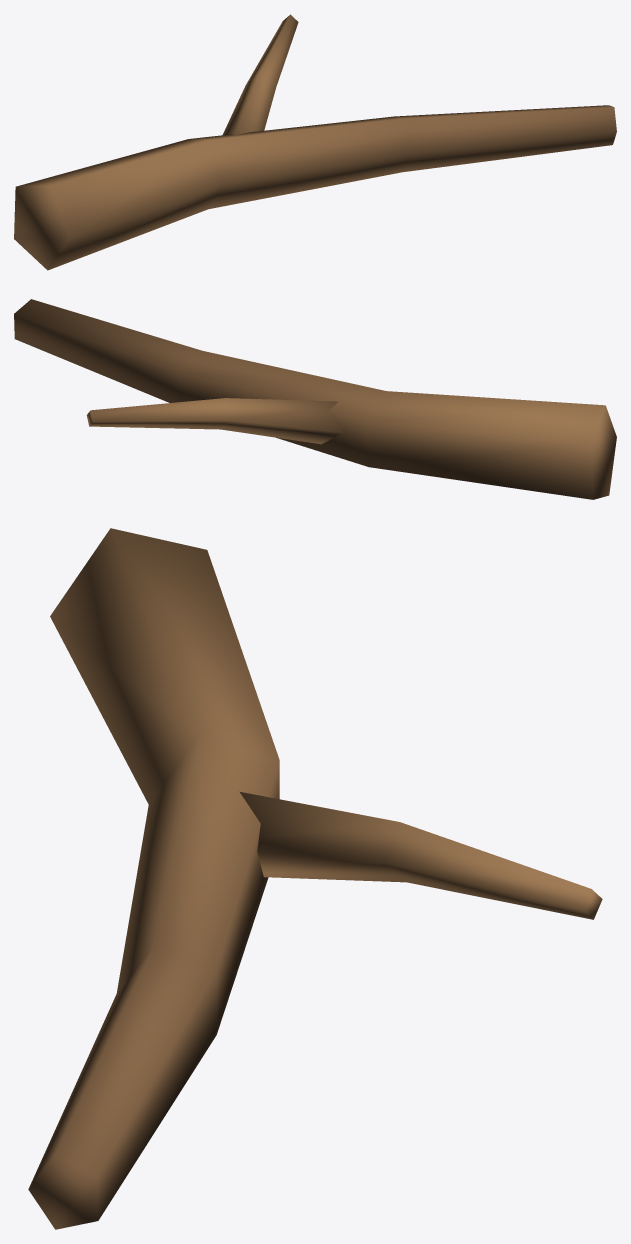
Rendered from node-branch-low.glb.
The picture shows the model from 3 angles, top to bottom: view 1: azimuth 30°, elevation 25°; view 2: azimuth 150°, elevation 25°; view 3: azimuth 270°, elevation 25°; orthographic projection. The views are drawn at different scales.
Parts seen in each view (by area): view 1: 0_branch; view 2: 0_branch; view 3: 0_branch.
Part boxes in pixels (x1,y1,x2,y2): 0_branch: [14, 14, 616, 270]; 0_branch: [14, 299, 616, 499]; 0_branch: [28, 528, 602, 1229].
Bounding box in the file's own units: 0.9713 × 0.1369 × 0.4255.
